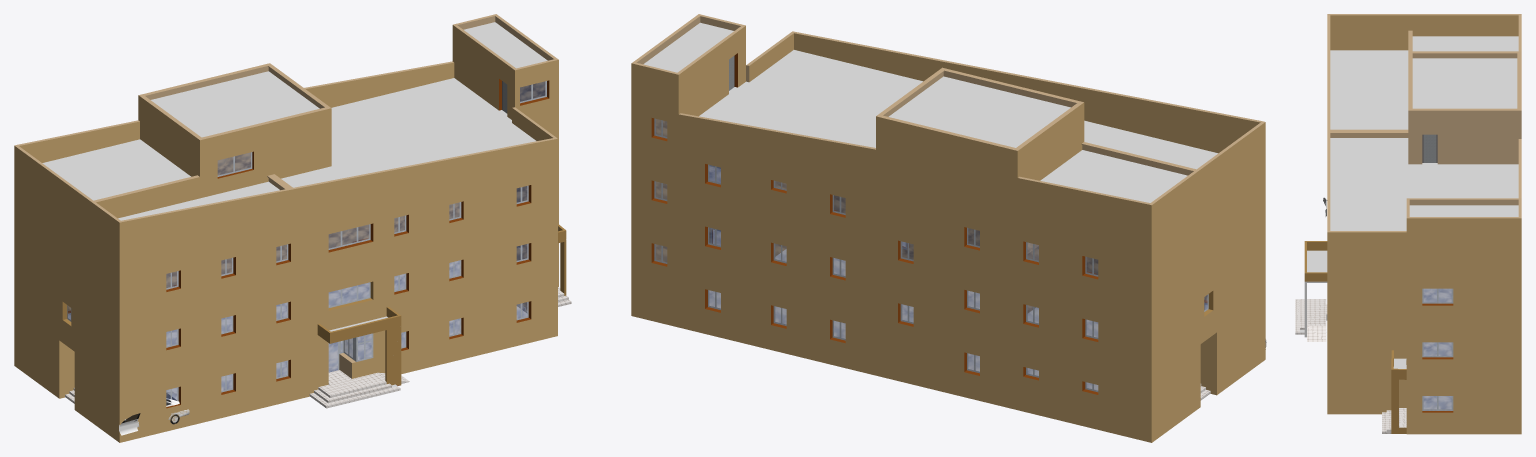
The model's file is buildibuildi 1.glb.
The picture shows the model from 3 angles, left to right: view 1: azimuth 30°, elevation 25°; view 2: azimuth 150°, elevation 25°; view 3: azimuth 270°, elevation 25°; orthographic projection. The views are drawn at different scales.
Parts seen in each view (by area): view 1: _(Loose Entity); view 2: _(Loose Entity); view 3: _(Loose Entity).
Part boxes in pixels (bbox=[...]): _(Loose Entity): bbox=[14, 14, 571, 442]; _(Loose Entity): bbox=[631, 14, 1265, 442]; _(Loose Entity): bbox=[1295, 14, 1521, 434].
Size of the model in its own units: 35.7 by 15.71 by 14.56.
Materials: 24 (4 with a texture image).
